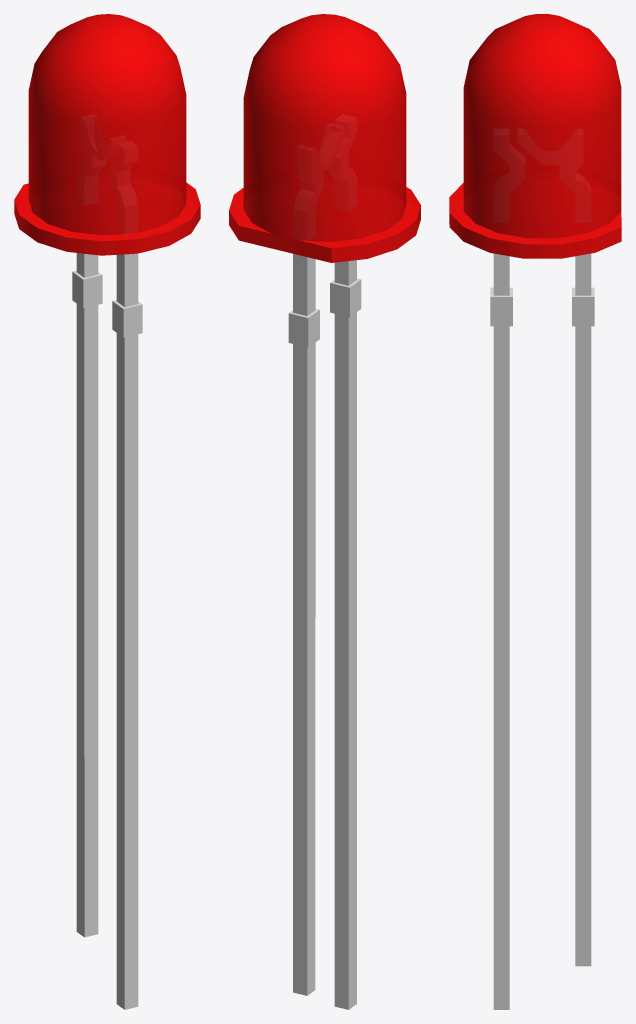
File: led.fbx
3 renders of one model, left to right at view 1: azimuth 30°, elevation 25°; view 2: azimuth 150°, elevation 25°; view 3: azimuth 270°, elevation 25°, orthographic. The views are drawn at different scales.
Visible parts, largest first — view 1: Diode-Light-Emitting, Legs; view 2: Diode-Light-Emitting, Legs; view 3: Diode-Light-Emitting, Legs.
Boxes of the visible parts, <box> form: Diode-Light-Emitting: <box>14,14,200,255</box>; Legs: <box>72,253,142,1009</box>; Diode-Light-Emitting: <box>229,14,420,262</box>; Legs: <box>288,253,361,1009</box>; Diode-Light-Emitting: <box>449,14,621,258</box>; Legs: <box>490,253,594,1009</box>.
Bounding box in the file's own units: 0.579 × 3.38 × 0.5352.
